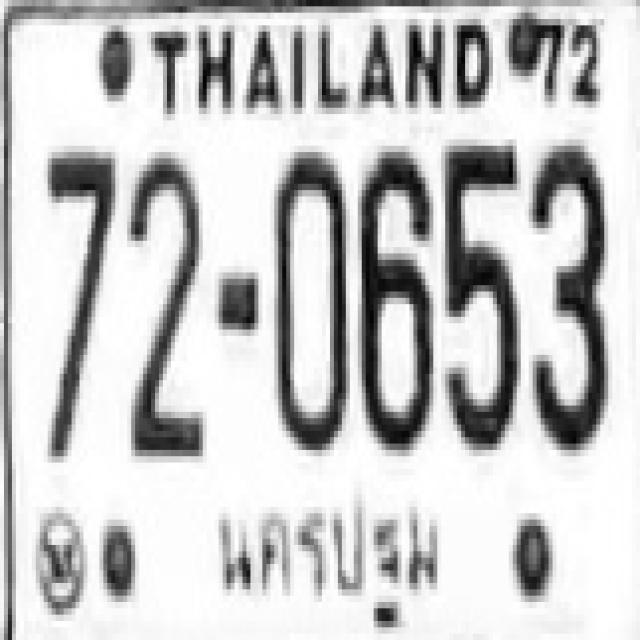0: (270, 146, 346, 444)
2: (125, 149, 201, 453)
3: (527, 140, 606, 443)
5: (441, 140, 517, 443)
6: (358, 146, 429, 444)
7: (42, 146, 113, 456), (44, 146, 111, 355)
NPT: (203, 483, 448, 639)
